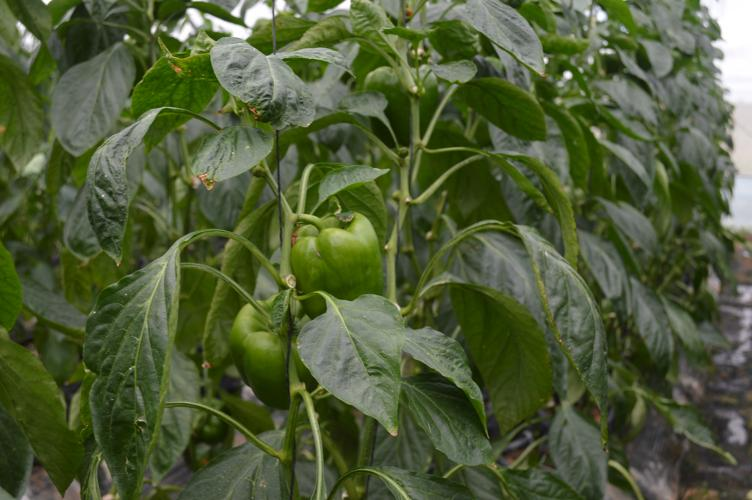BellPepper: (227, 294, 310, 407), (293, 212, 384, 307), (357, 64, 434, 146)
